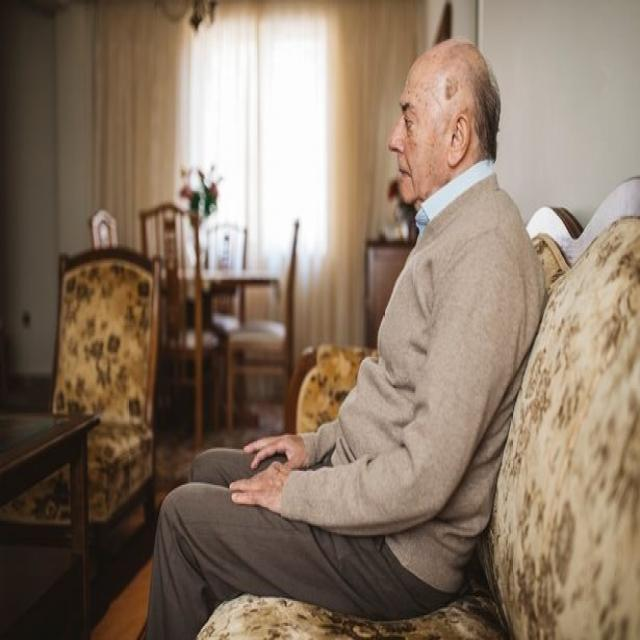sitting: (128, 33, 548, 640)
